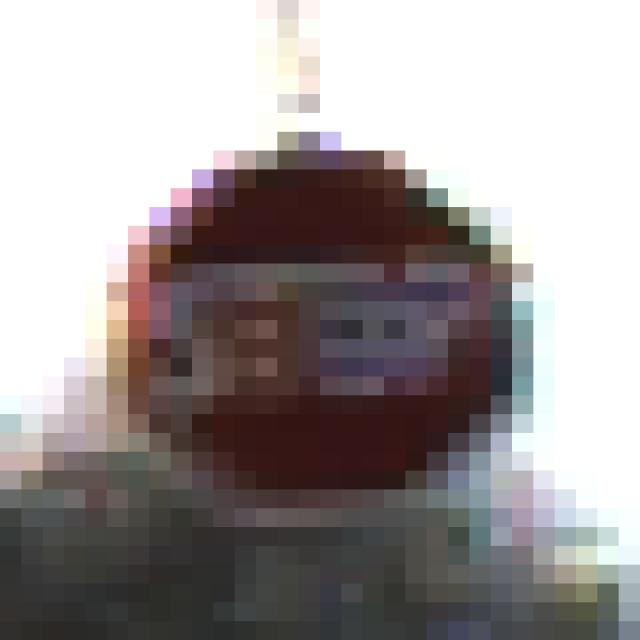STOP: (108, 114, 534, 547)
